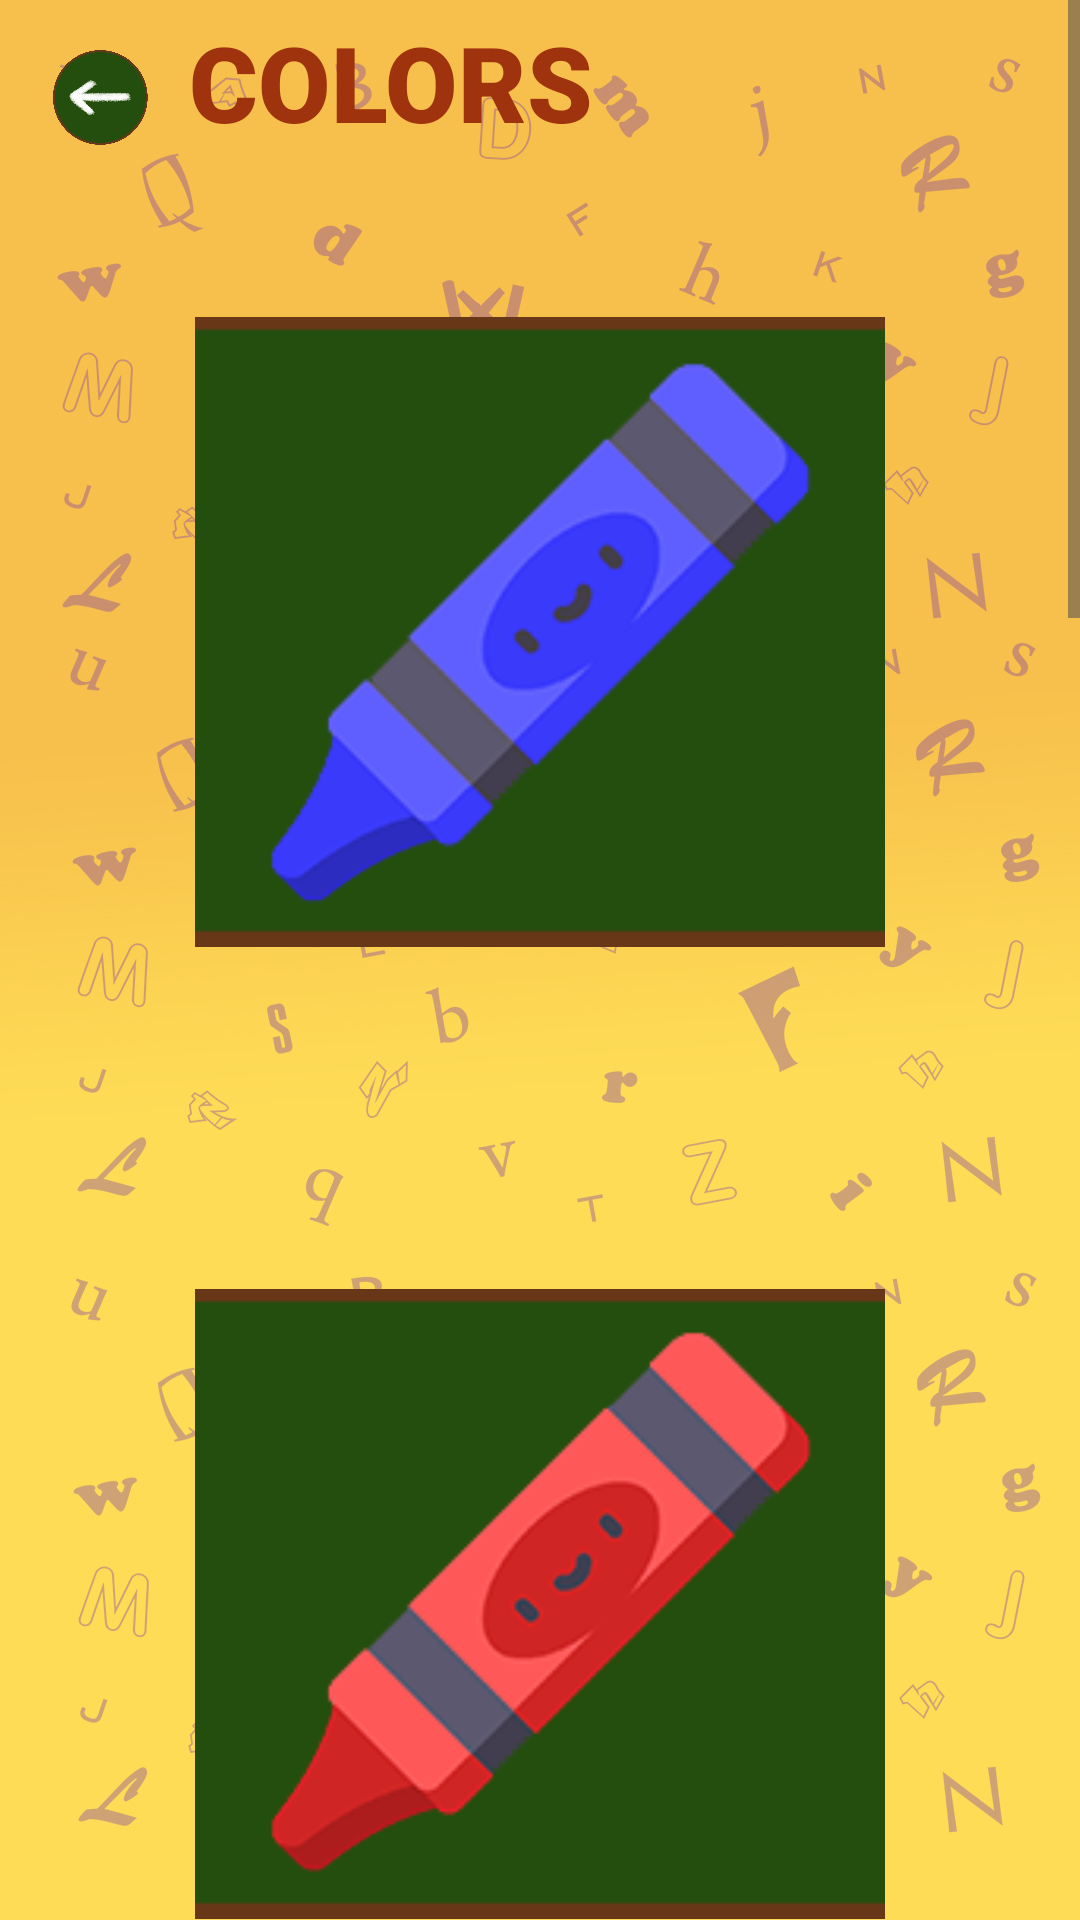

Screen size 1080×1920. Icon name, then its box in pixels as BBox(x1, y1, x2, y2):
back: BBox(53, 50, 148, 145)
